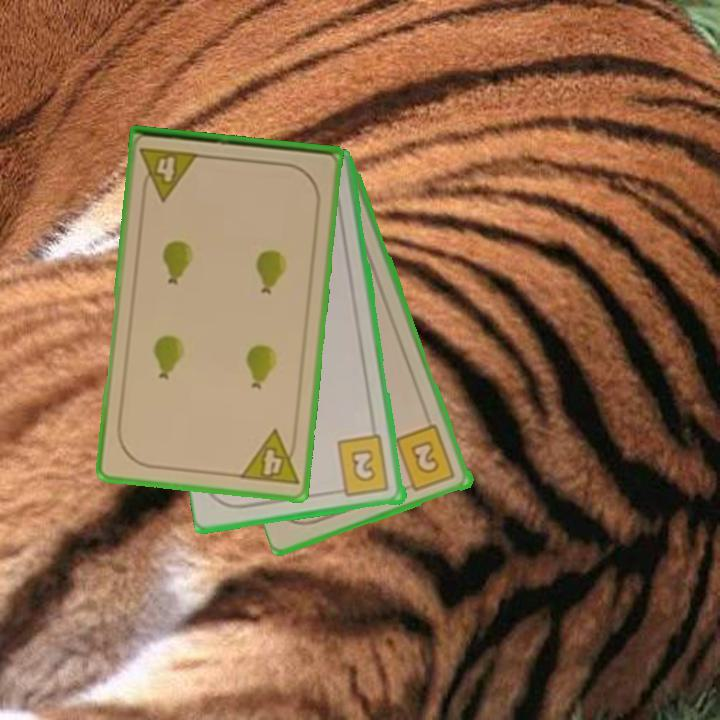2b: (392, 421, 459, 494), (331, 432, 393, 499)
4p: (236, 426, 301, 489), (136, 144, 202, 203)
